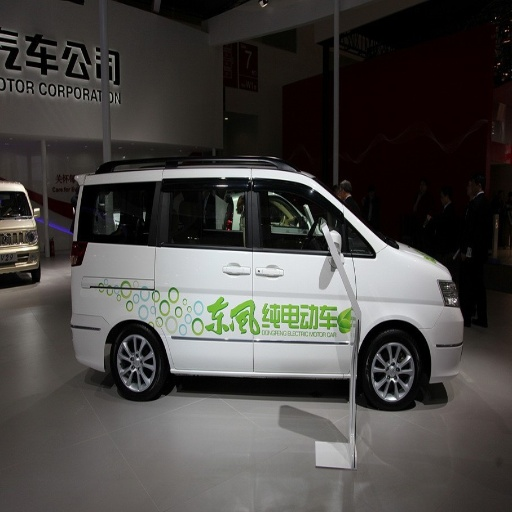front_right_door: (252, 175, 356, 372)
trunk: (74, 253, 167, 363)
